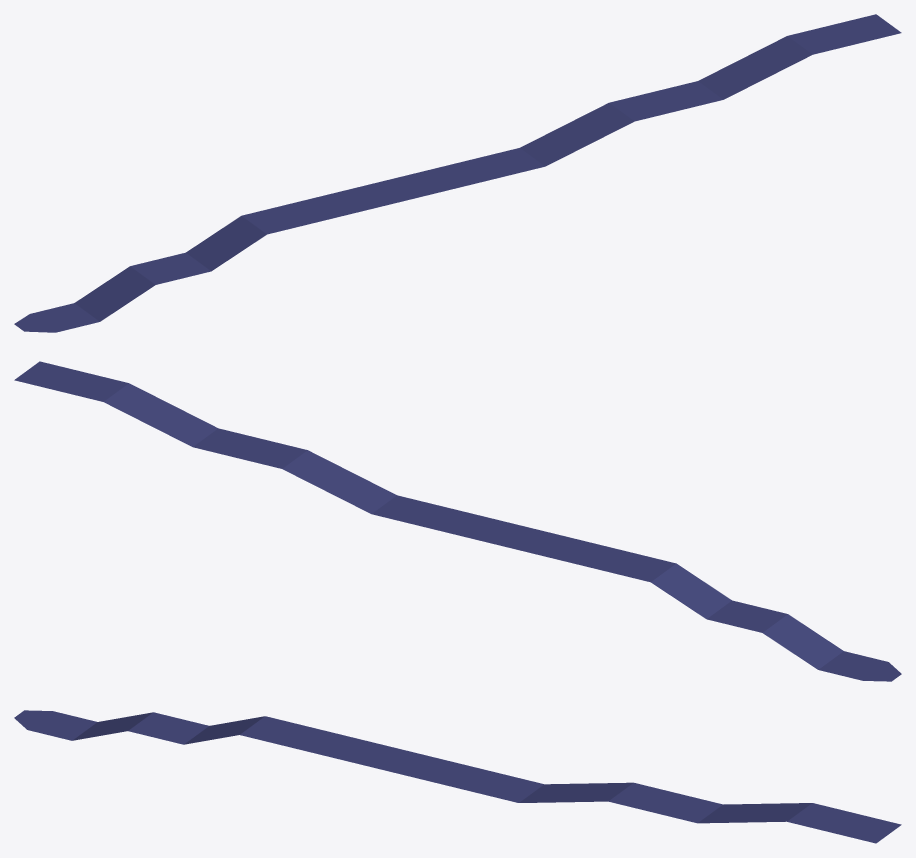
The model's file is Dragonfly_Shrine_Water_Base.fbx.
The picture shows the model from 3 angles, top to bottom: view 1: azimuth 30°, elevation 25°; view 2: azimuth 150°, elevation 25°; view 3: azimuth 330°, elevation 25°; orthographic projection.
Parts seen in each view (by area): view 1: Water_Base; view 2: Water_Base; view 3: Water_Base.
Boxes of the visible parts, x1,y1,x2,y2 form: Water_Base: [14, 14, 901, 332]; Water_Base: [14, 361, 901, 681]; Water_Base: [14, 710, 901, 843].
Bounding box in the file's own units: 78 × 8 × 4.
